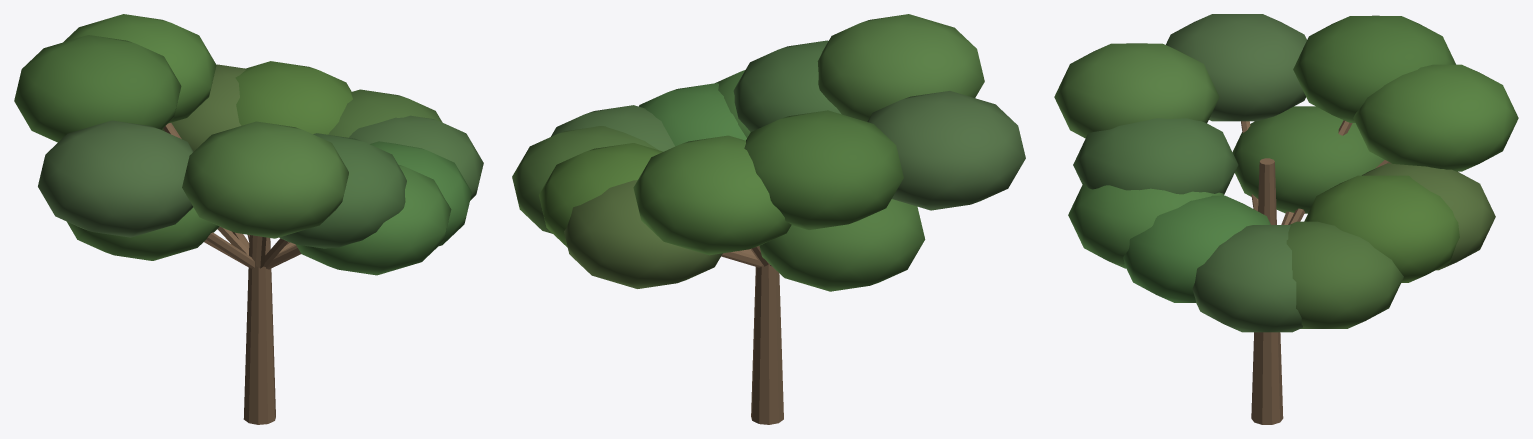
Rendered from thai_tamarind.glb.
3 views of the same model, side by side, from view 1: azimuth 30°, elevation 25°; view 2: azimuth 150°, elevation 25°; view 3: azimuth 270°, elevation 25° (orthographic). The views are drawn at different scales.
Visible parts, largest first — view 1: thai_tamarind; view 2: thai_tamarind; view 3: thai_tamarind.
Part boxes in pixels (x1,y1,x2,y2): thai_tamarind: (14,14,483,424); thai_tamarind: (512,14,1025,424); thai_tamarind: (1054,14,1518,424).
Bounding box in the file's own units: 8.22 × 6.43 × 7.86.
